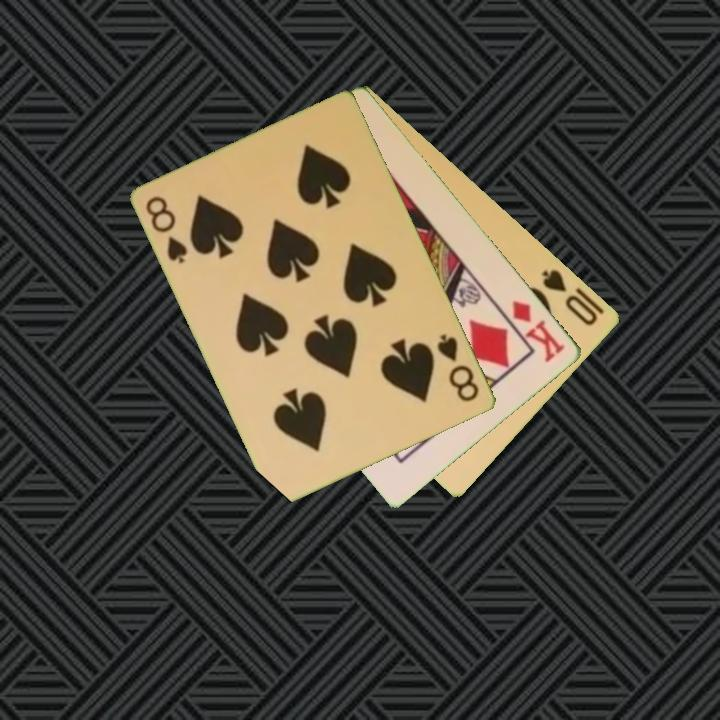10s: (539, 265, 602, 329)
8s: (434, 330, 483, 405), (142, 192, 191, 267)
Kd: (509, 297, 569, 366)
